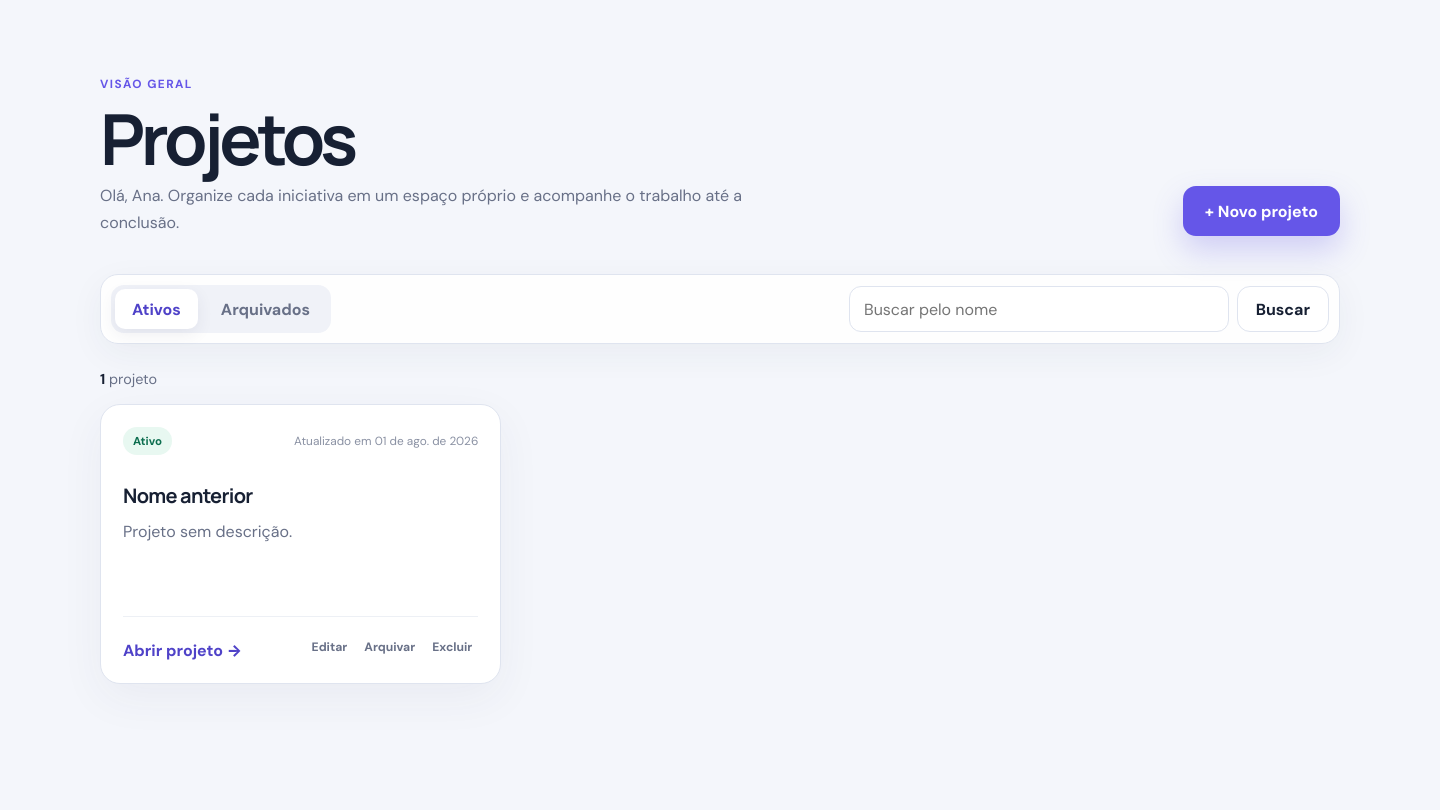
Scenario: ProjectsPage › edits an existing project and refreshes its card
Click the button "Editar" at [330, 647], box left=306, top=633, right=353, bottom=661
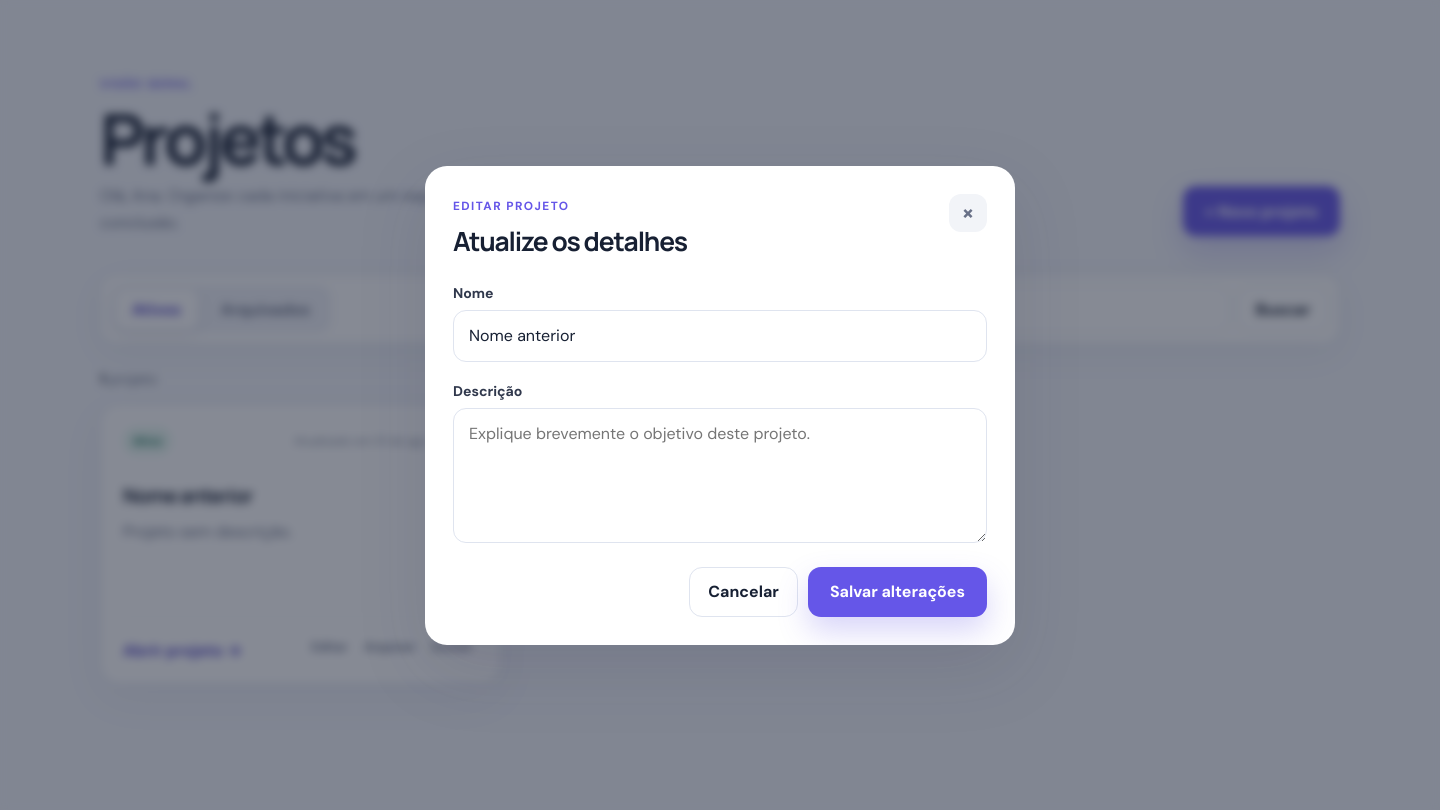
Replace the text in the field labelled "Nome" with "Nome atualizado" at [720, 336], box left=453, top=310, right=987, bottom=362
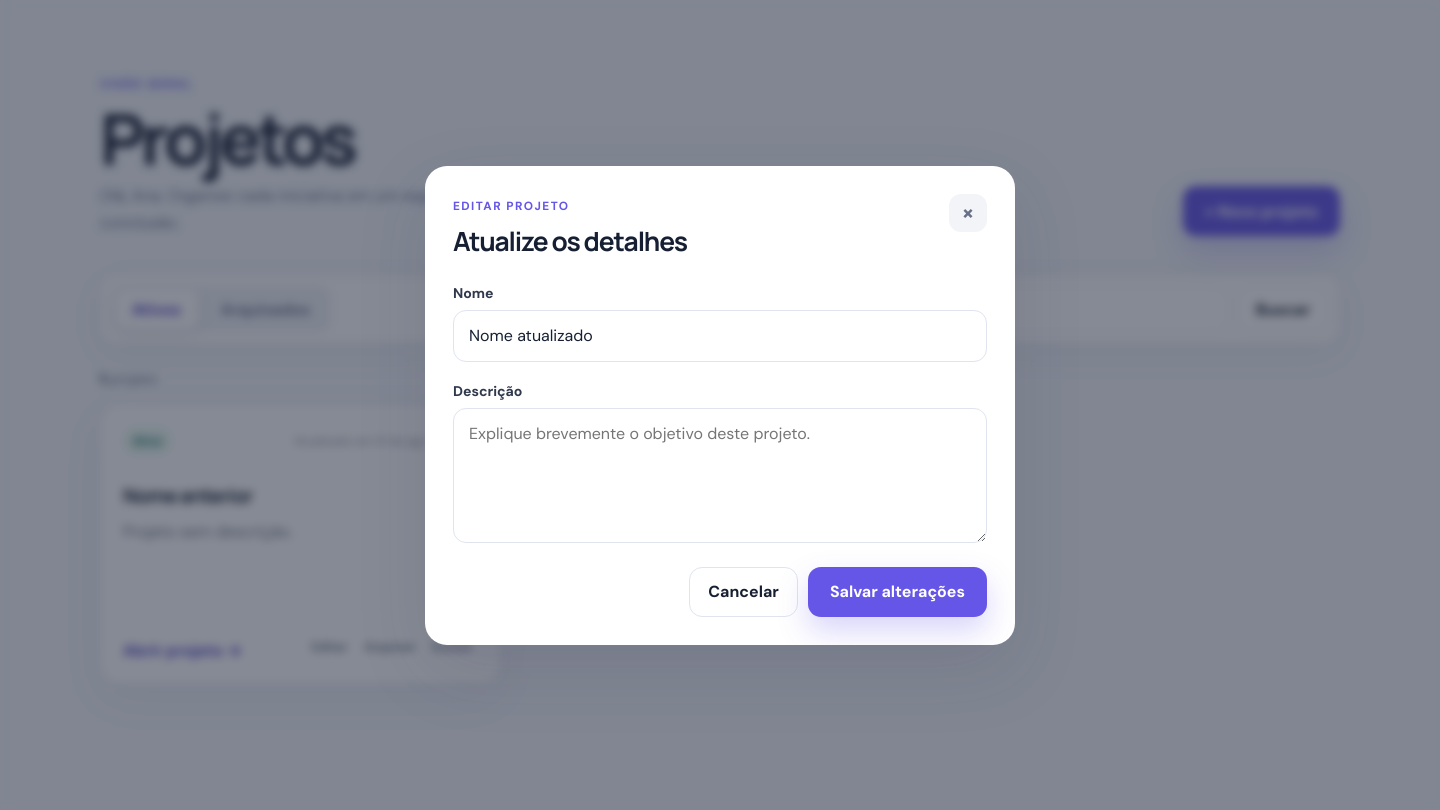
Type "Descrição atualizada." into the text box labelled "Descrição" at [720, 475], box left=453, top=408, right=987, bottom=542
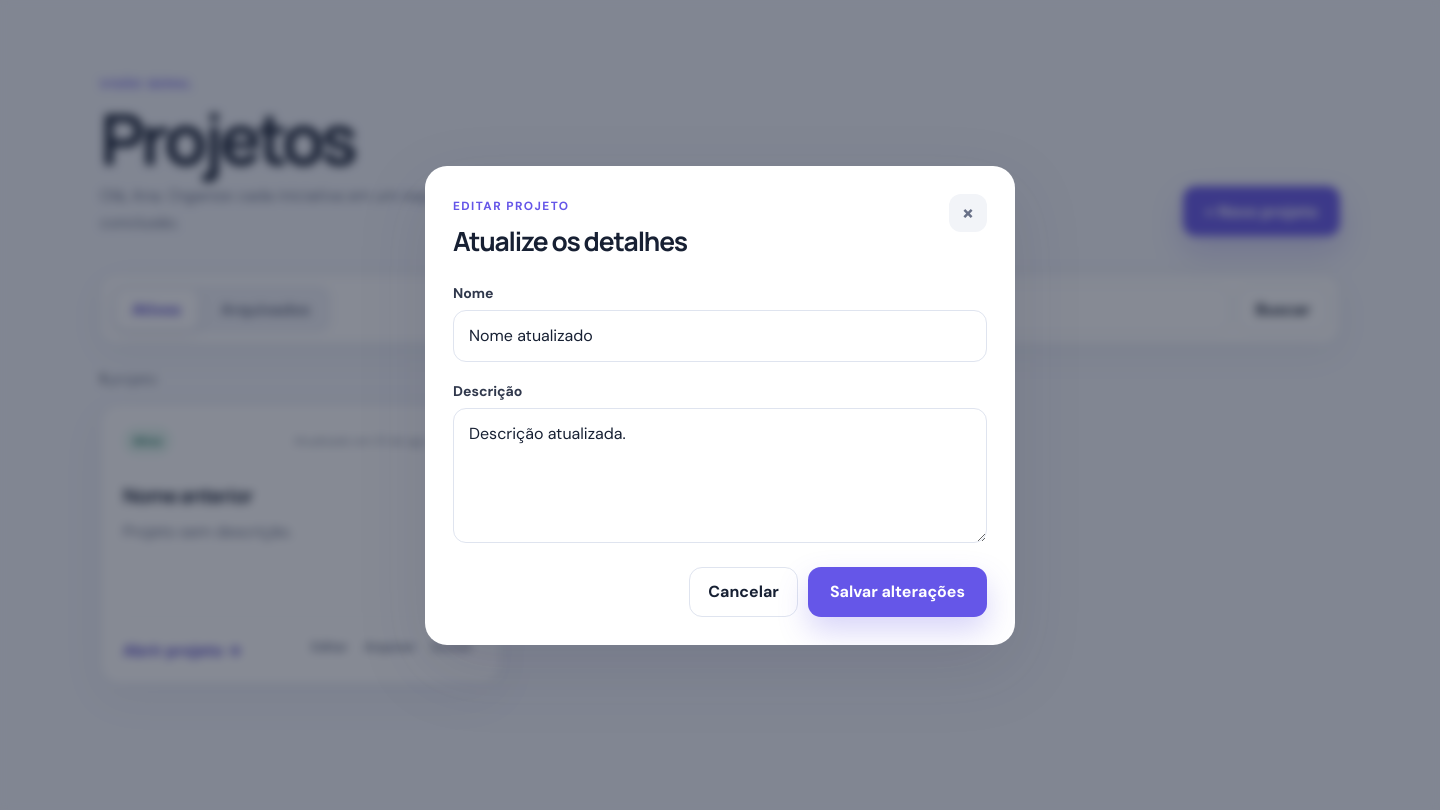
Click the button "Salvar alterações" at [897, 592], box left=808, top=566, right=987, bottom=616
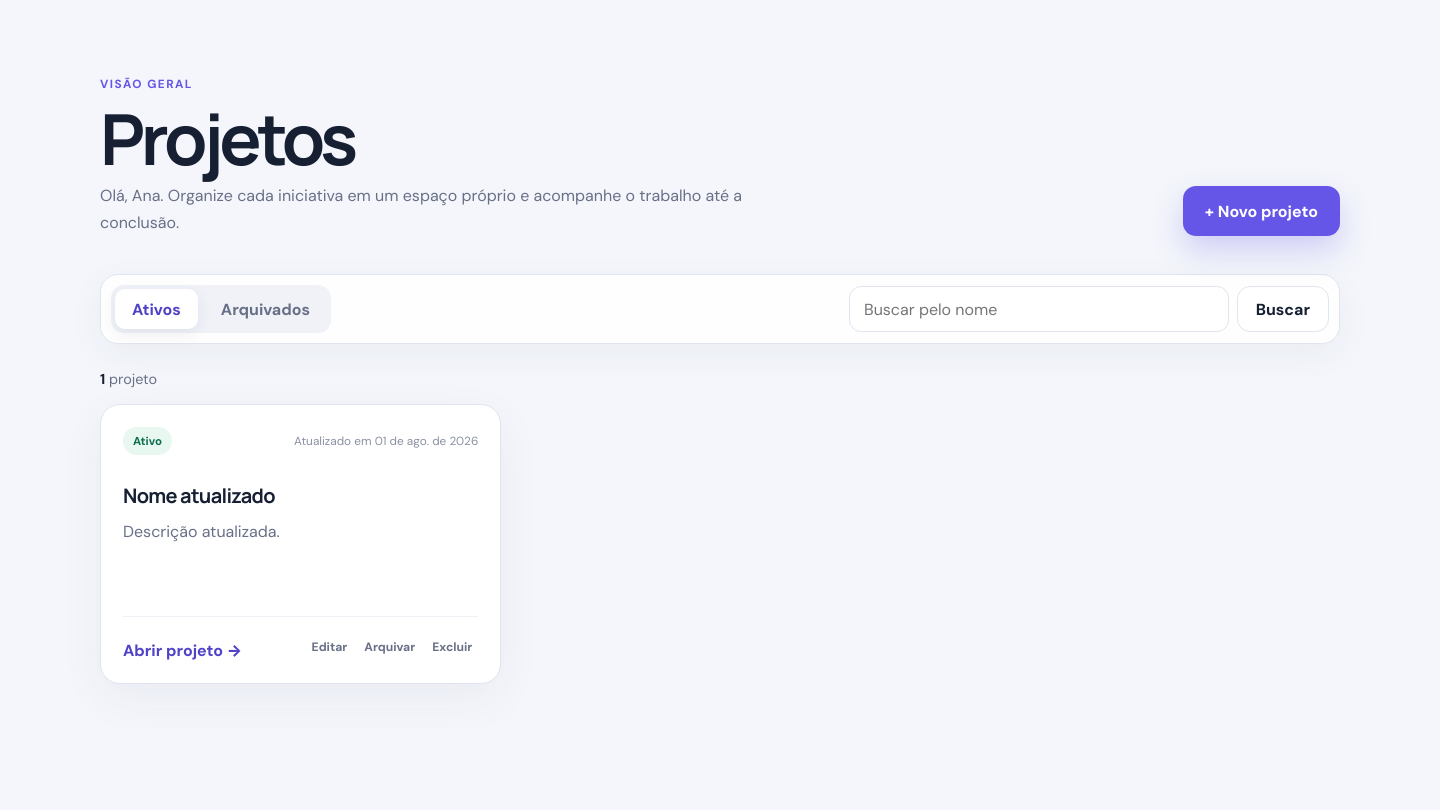
expect the heading "Nome atualizado" is shown: met, box left=123, top=482, right=275, bottom=509
expect the text "Descrição atualizada." is shown: met, box left=123, top=521, right=280, bottom=542
